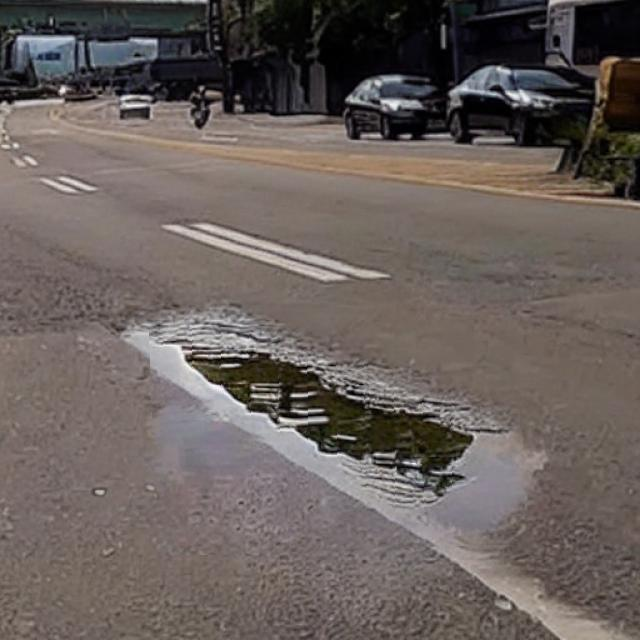puddle: (152, 321, 525, 554)
